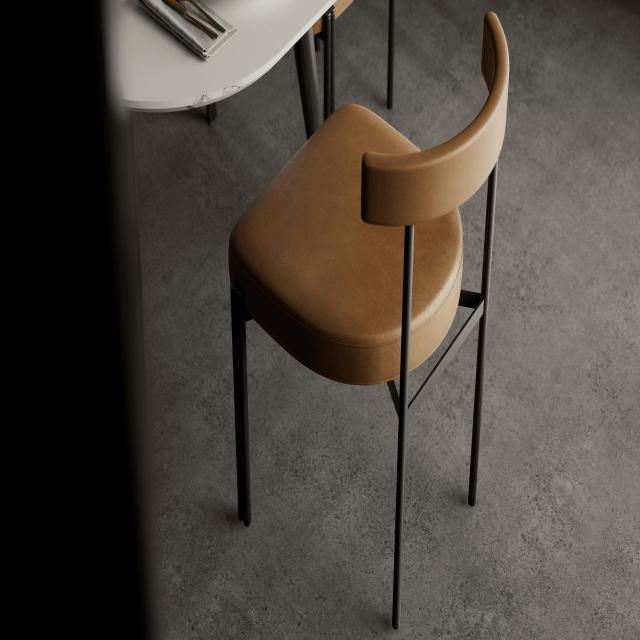chair: (227, 1, 512, 628), (223, 0, 519, 393)
